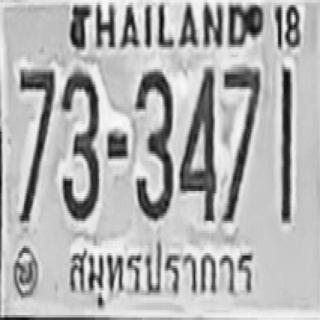N01: (280, 66, 292, 222)
N03: (59, 68, 98, 220), (134, 67, 172, 218)
N04: (179, 65, 215, 221)
N07: (222, 65, 260, 221), (16, 67, 54, 221)
P57: (61, 233, 258, 309)
